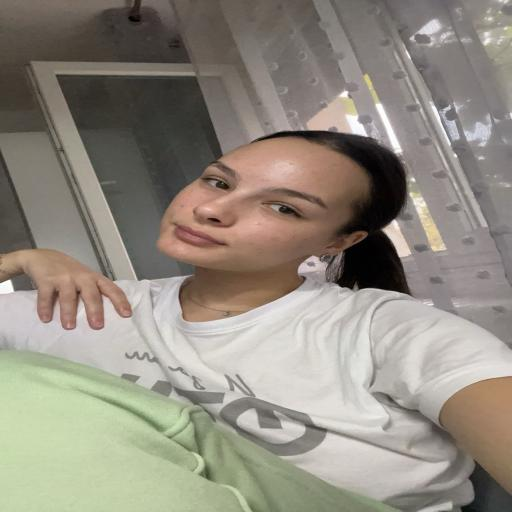marija: (155, 135, 374, 268)
